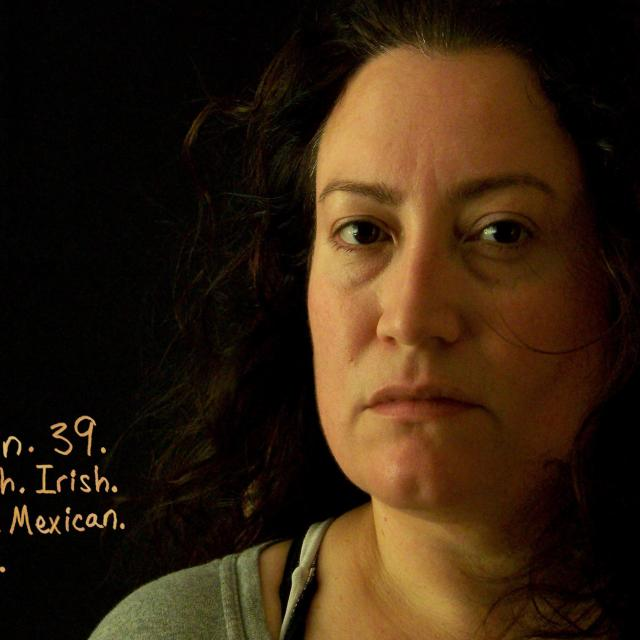no-glass: (314, 203, 538, 262)
